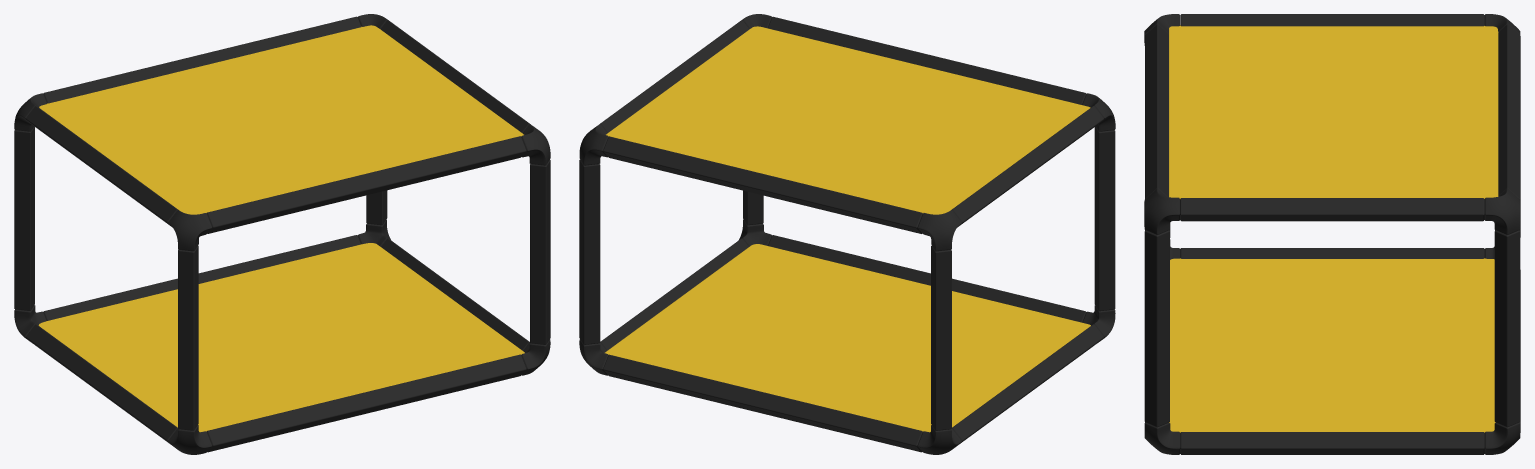
3 views of the same model, side by side, from view 1: azimuth 30°, elevation 25°; view 2: azimuth 150°, elevation 25°; view 3: azimuth 270°, elevation 25° (orthographic). The views are drawn at different scales.
Visible parts, largest first — view 1: 420x329x229; view 2: 420x329x229; view 3: 420x329x229.
Boxes of the visible parts, x1,y1,x2,y2 form: 420x329x229: [14, 14, 550, 454]; 420x329x229: [579, 14, 1115, 454]; 420x329x229: [1144, 14, 1520, 454].
Bounding box in the file's own units: 0.4977 × 0.3066 × 0.4063.
